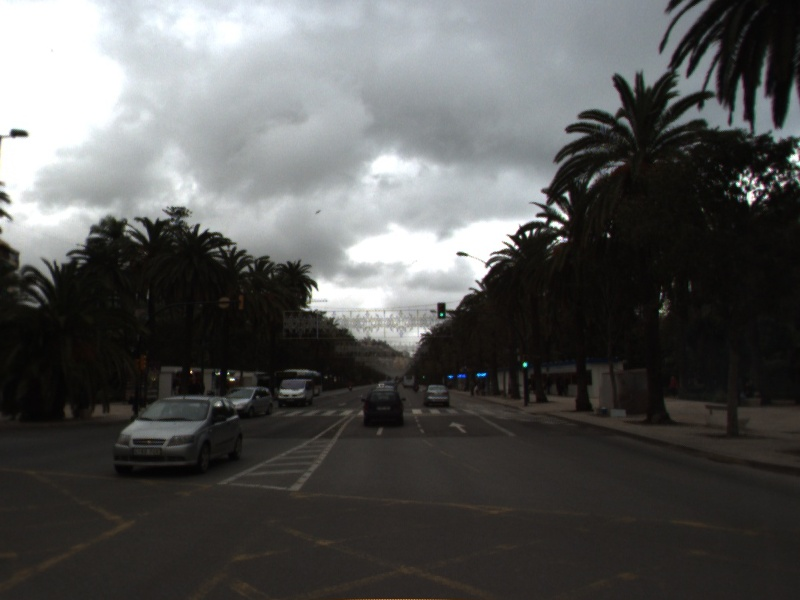STRAIGHT: (446, 420, 470, 435)
